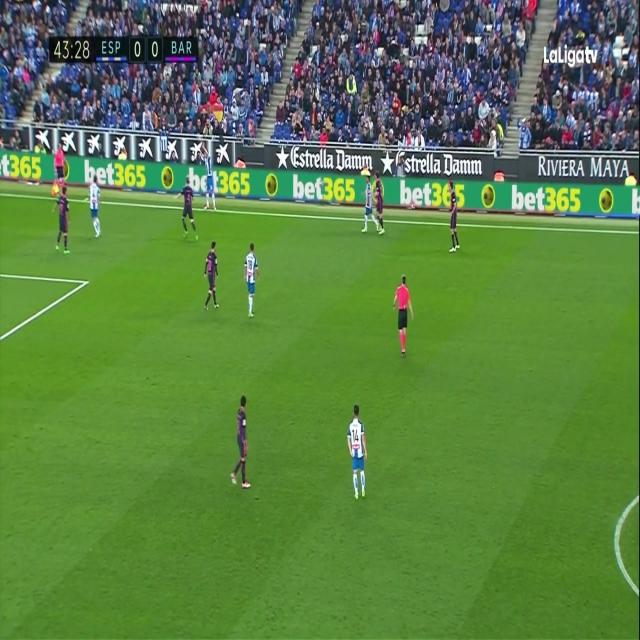Player: (345, 401, 371, 500), (228, 394, 253, 491), (172, 177, 198, 243), (202, 238, 221, 316), (243, 241, 260, 320), (199, 142, 218, 210), (53, 184, 71, 255), (86, 174, 104, 240), (446, 179, 460, 259), (360, 175, 377, 235), (374, 170, 384, 237)
Referee: (392, 271, 414, 359), (52, 142, 66, 189)
